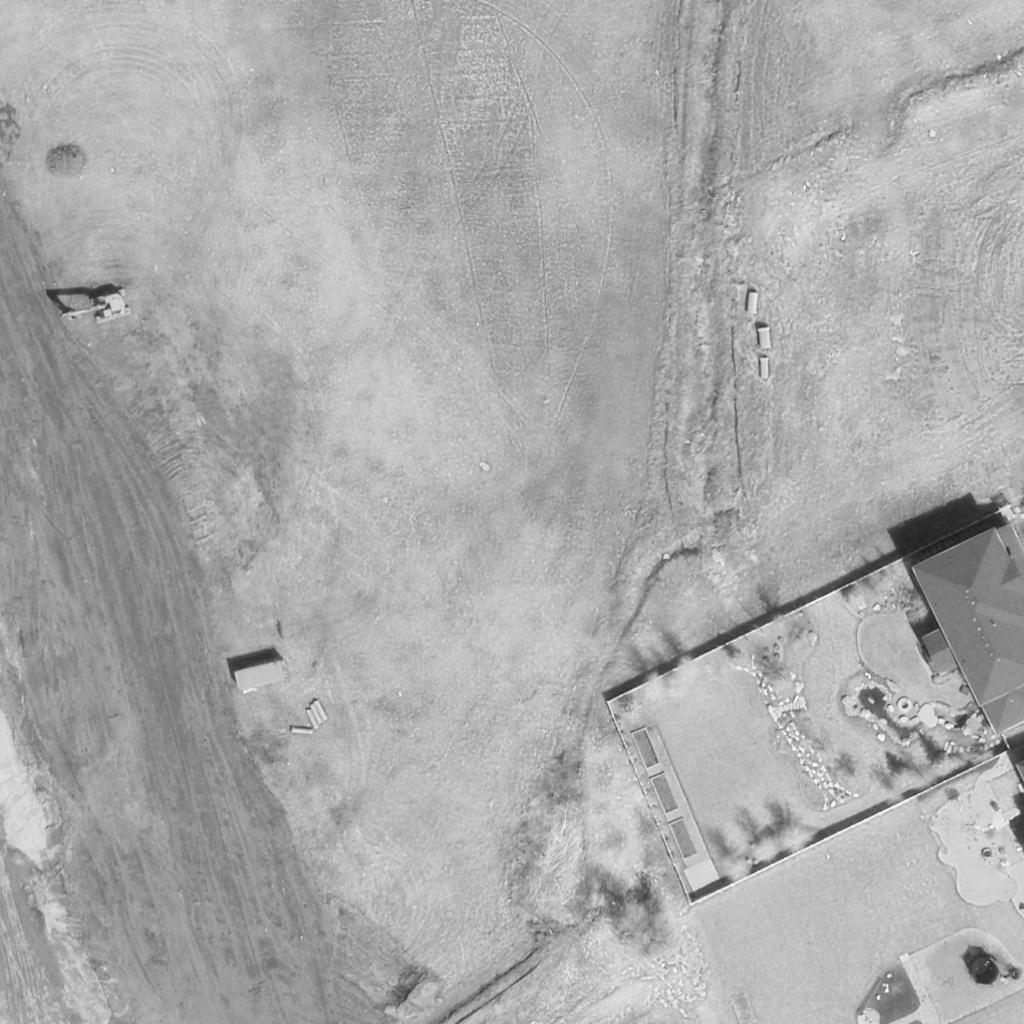vehicle: (60, 289, 132, 331)
